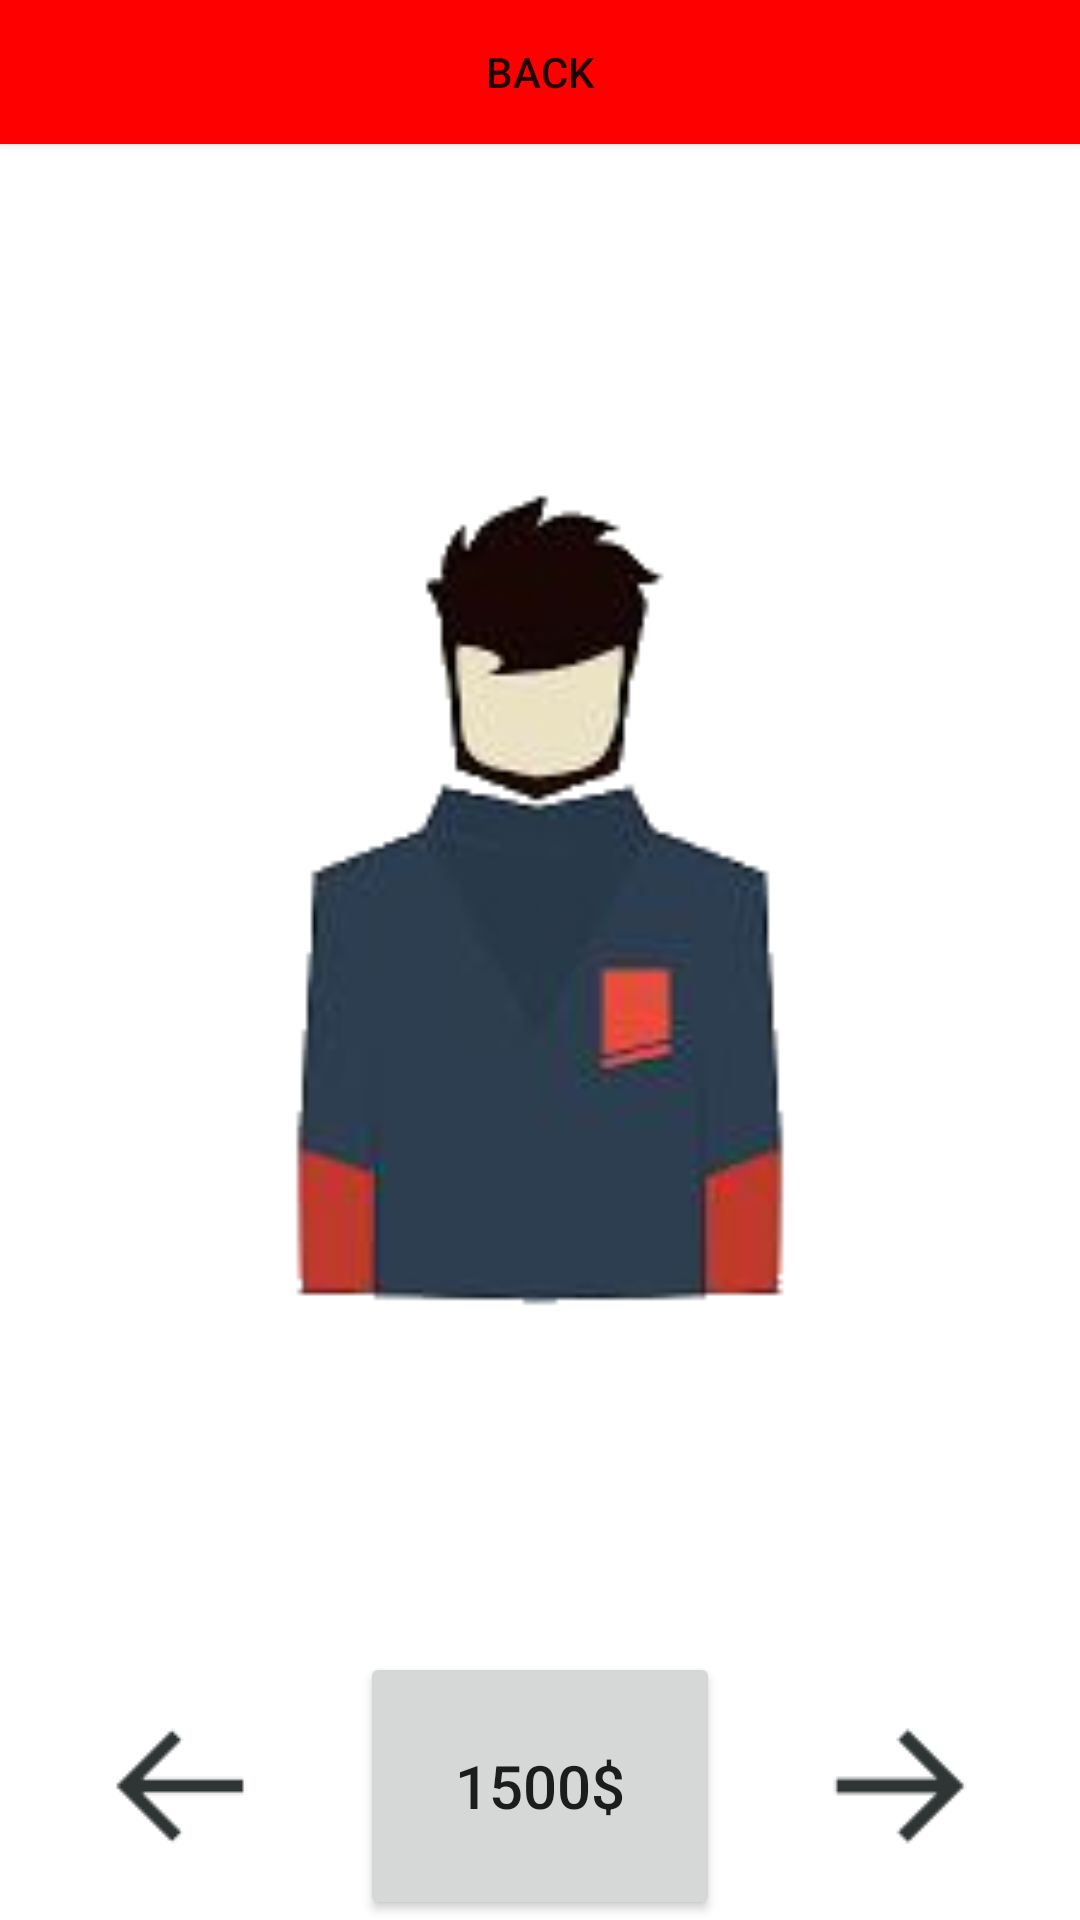

Screen size 1080x1920. Icon name, then its center in pixels as (x=x, y=y):
left: (x=180, y=1786)
right: (x=899, y=1786)
